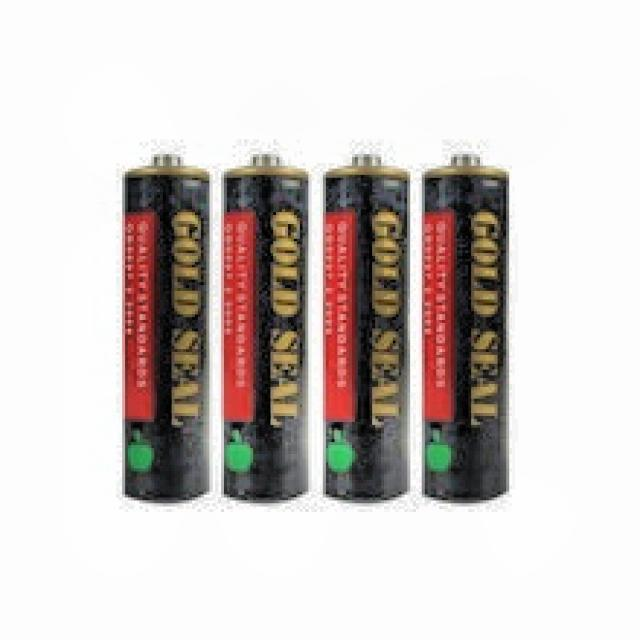battery: (422, 156, 509, 501), (324, 155, 409, 501), (224, 156, 309, 501), (125, 155, 209, 501)
